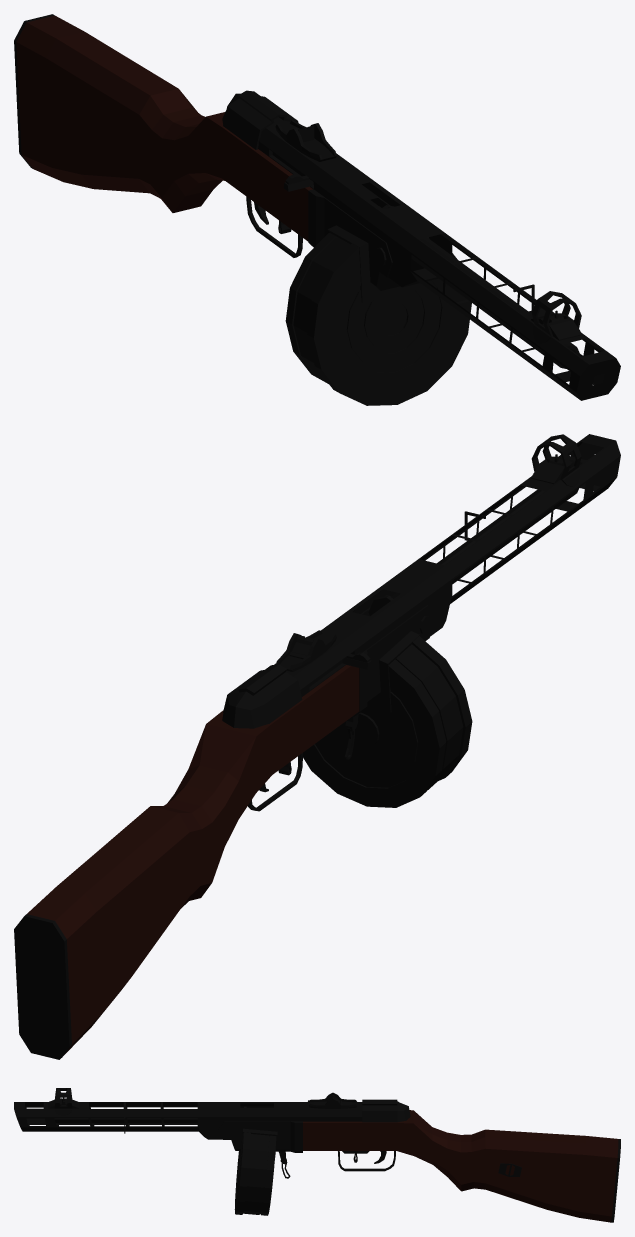
File: PPSH_41.fbx
3 renders of one model, top to bottom at view 1: azimuth 30°, elevation 25°; view 2: azimuth 150°, elevation 25°; view 3: azimuth 270°, elevation 25°, orthographic. The views are drawn at different scales.
Visible parts, largest first — view 1: PPSH_41; view 2: PPSH_41; view 3: PPSH_41.
Boxes of the visible parts, x1,y1,x2,y2 form: PPSH_41: (14, 14, 620, 405); PPSH_41: (14, 434, 620, 1059); PPSH_41: (14, 1088, 620, 1222).
Size of the model in its own units: 13.47 by 19.71 by 83.03.
